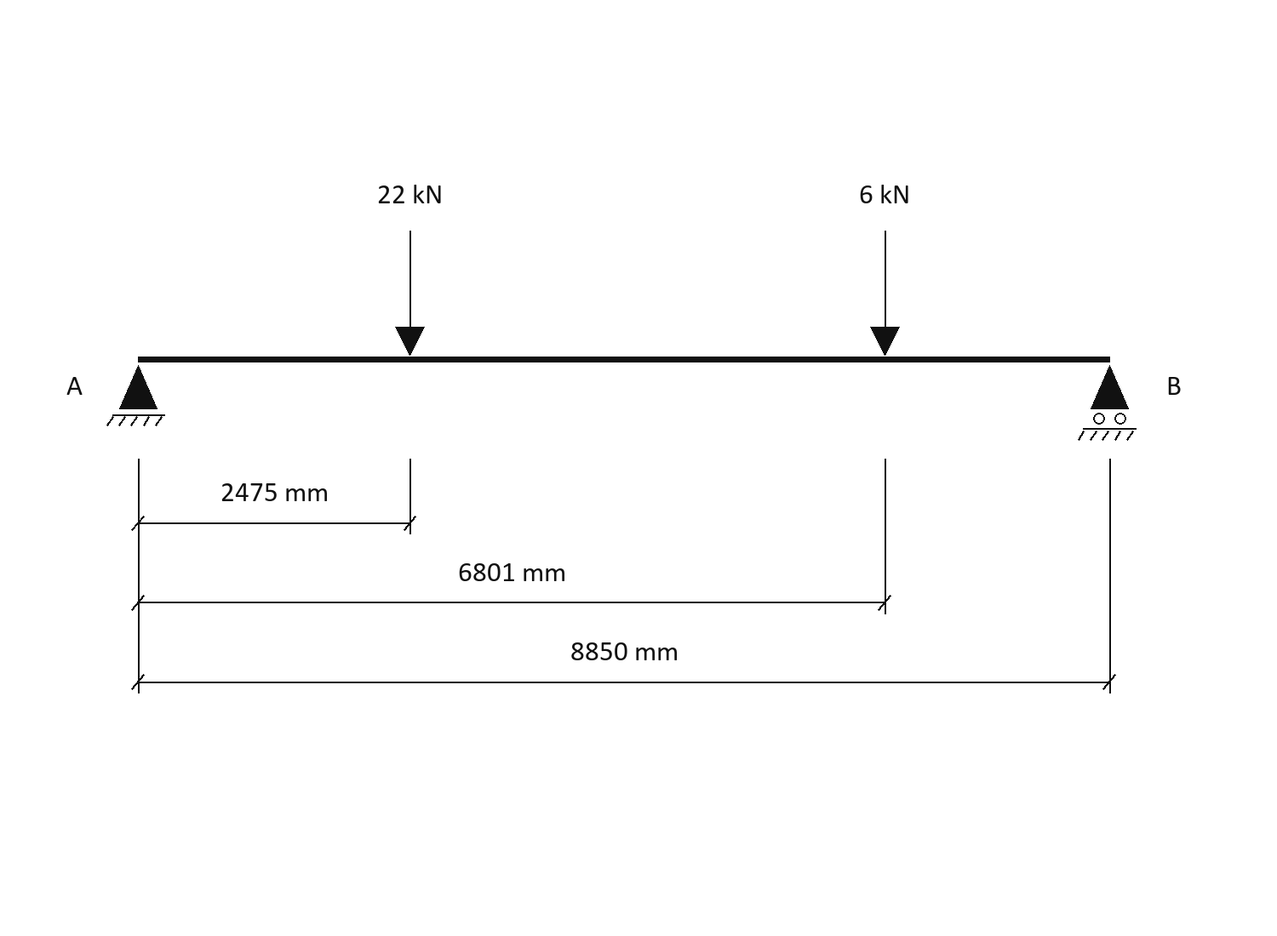pin_support: (106, 365, 165, 426)
point_load: (395, 231, 425, 356), (870, 231, 900, 356)
roller_support: (1078, 365, 1137, 441)
